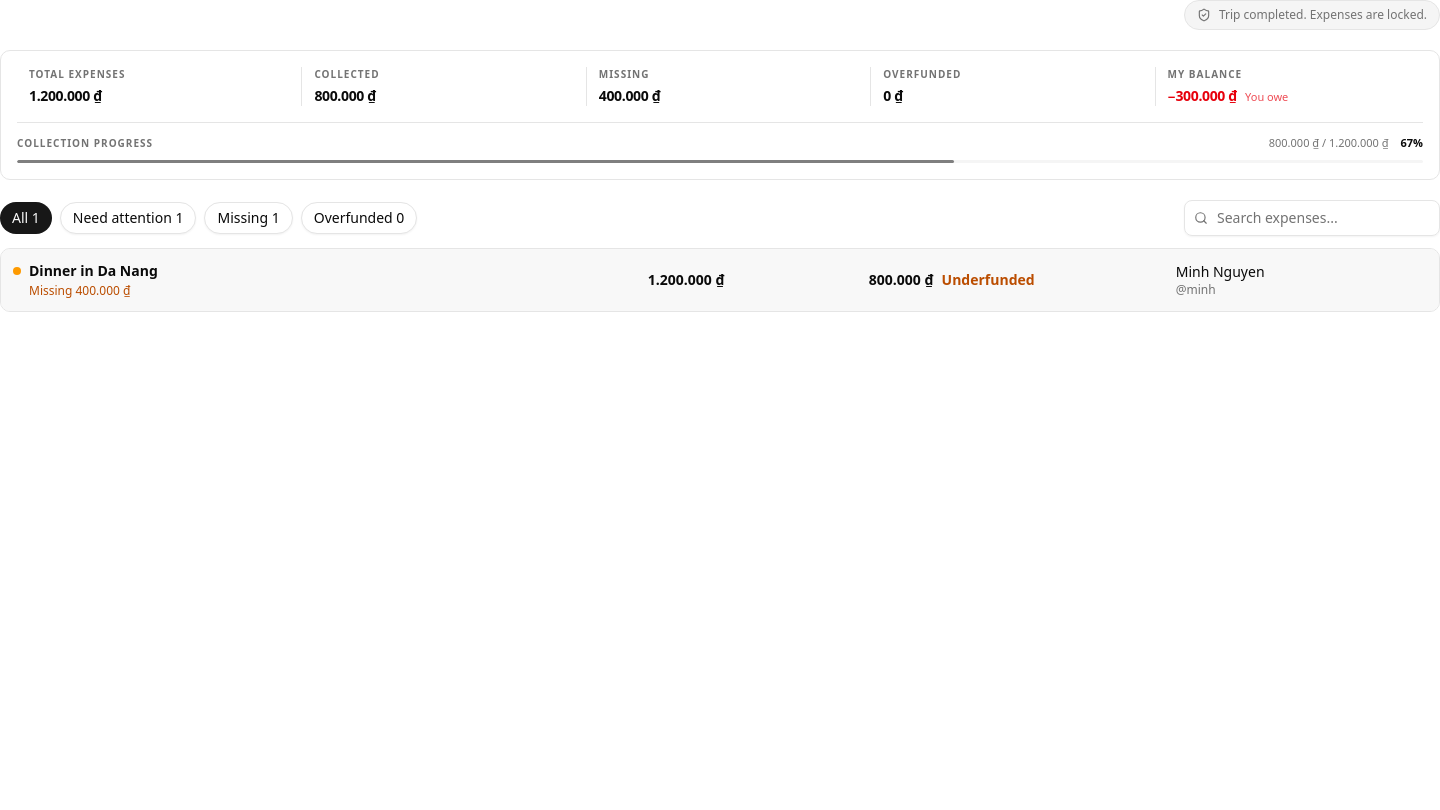
Test case: ExpensesTab › hides expense management controls for terminal trips
This screenshot has width=1440, height=810.
Expected: the text "Trip completed. Expenses are locked." is shown, [1184,0,1439,30]
Step 1. Click the button "Dinner in Da Nang" → click(720, 280), box [1,248,1439,310]
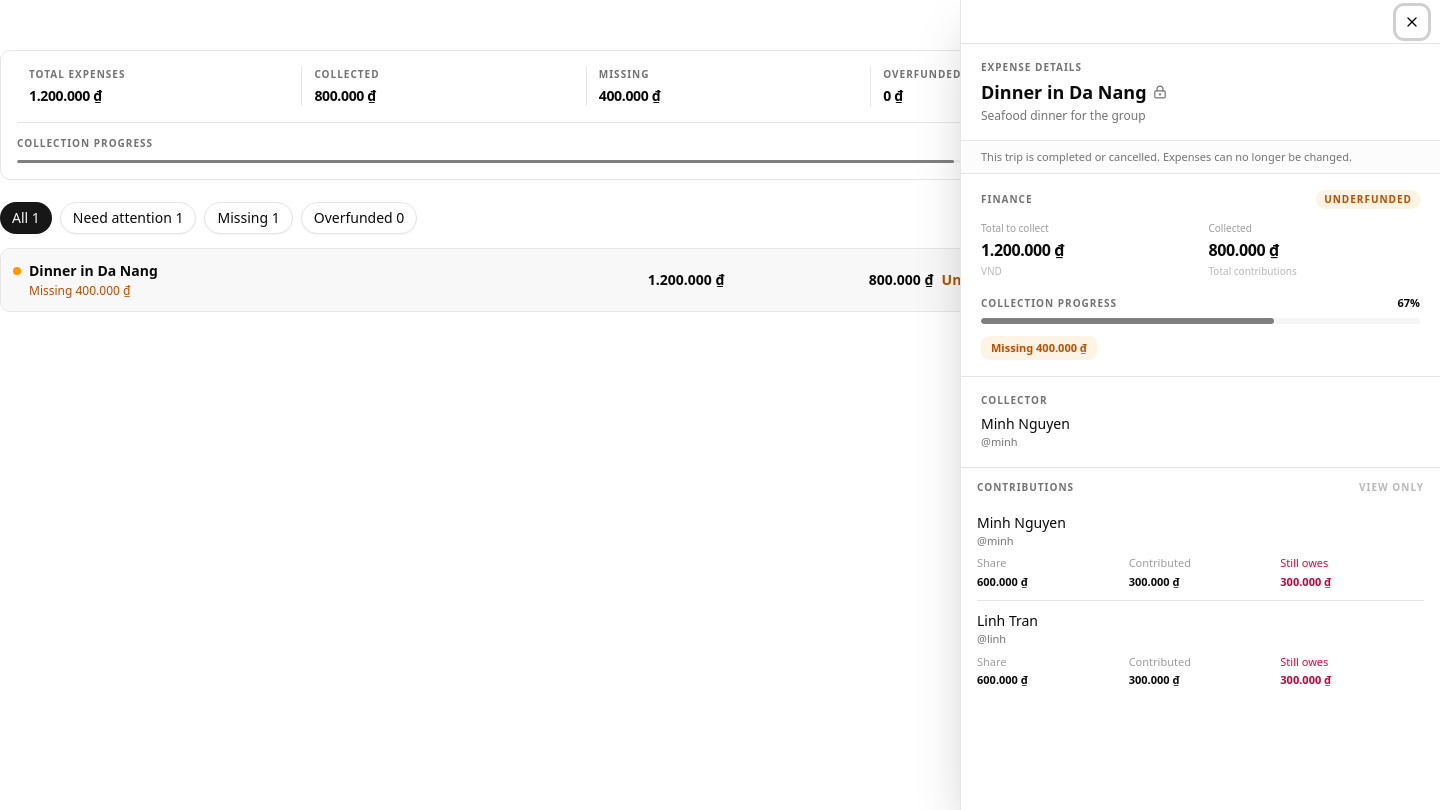
Now the text "This trip is completed or cancelled. Expenses can no longer be changed." is shown, box [981,148,1352,164]
